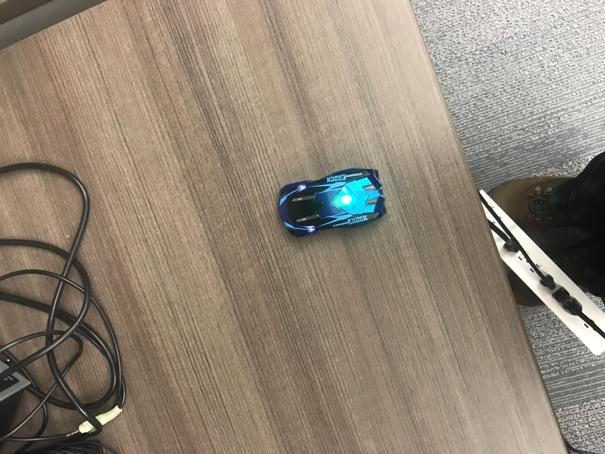Shock: (275, 168, 388, 235)
